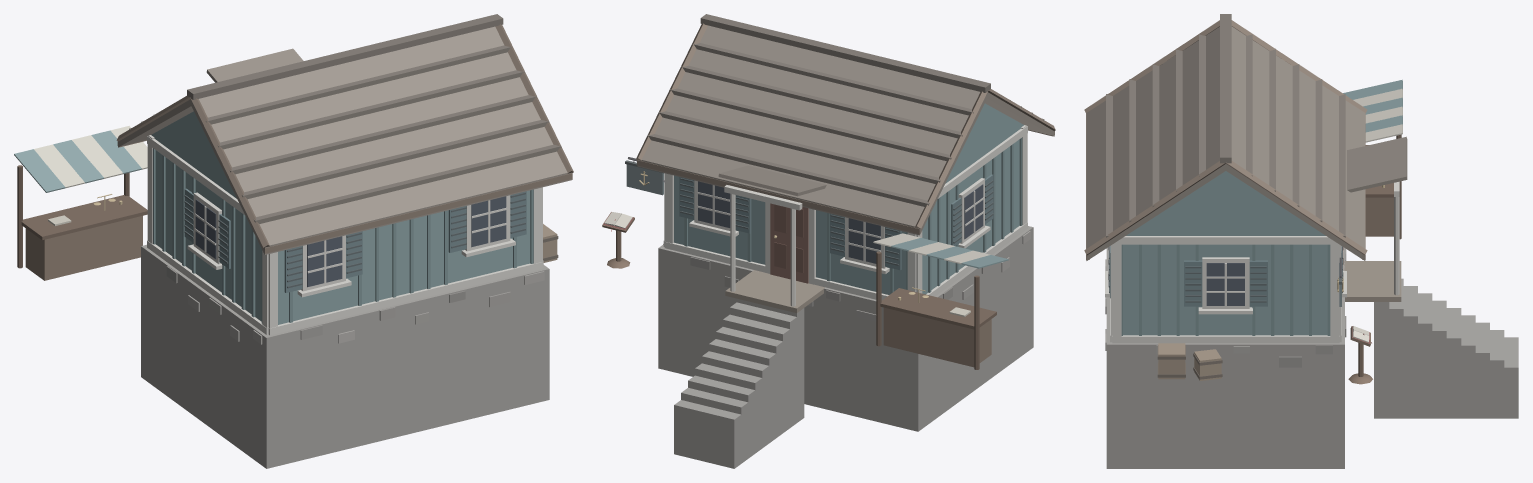
Rendered from harbour_master_2.gltf.
3 views of the same model, side by side, from view 1: azimuth 30°, elevation 25°; view 2: azimuth 150°, elevation 25°; view 3: azimuth 270°, elevation 25° (orthographic). The views are drawn at different scales.
Parts seen in each view (by area): view 1: Body; view 2: Body; view 3: Body.
Boxes of the visible parts, x1,y1,x2,y2 form: Body: [14, 14, 573, 468]; Body: [602, 14, 1055, 468]; Body: [1084, 14, 1518, 468].
Bounding box in the file's own units: 10.41 × 7.79 × 9.66.
